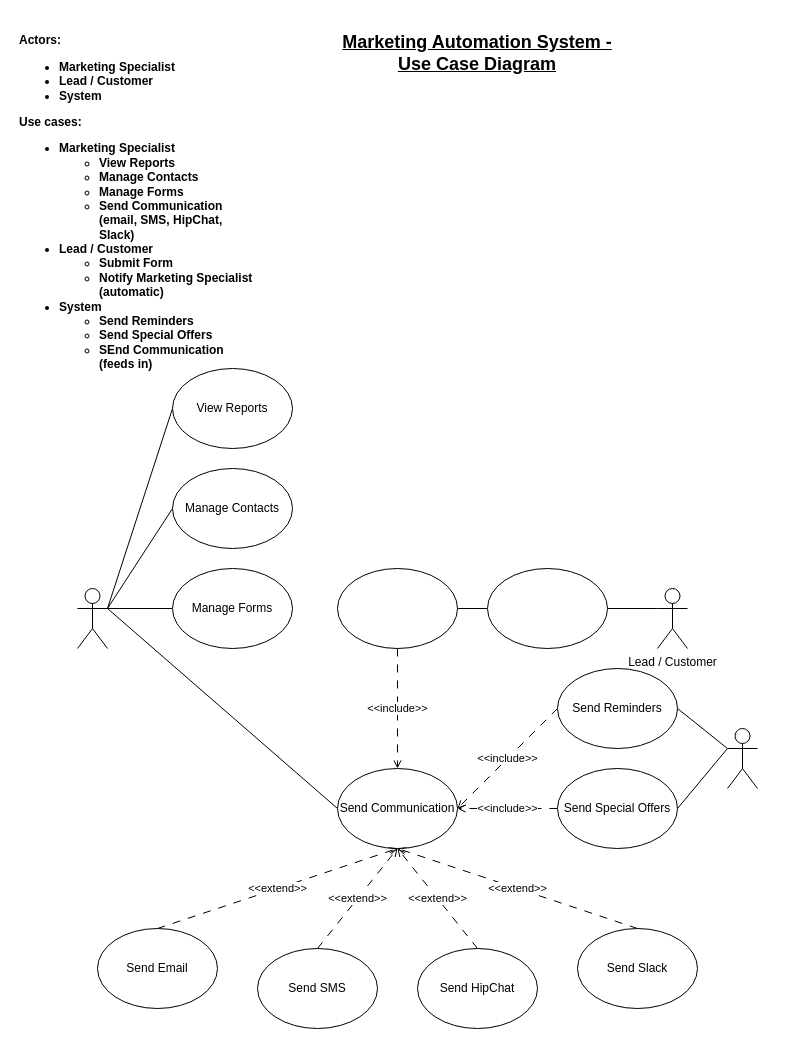
Image size: 809x1046. Some labels were removed from this diagram. The shapes that lost their labels are listed below. From the top down, each one's centre as x and y in pixels, then its label:
At pixel 92 618: "Marketing Specialist".
At pixel 397 608: "Notify Marketing Specialist".
At pixel 547 608: "Submit Form".
At pixel 742 758: "<<system>> Notification Engine".
